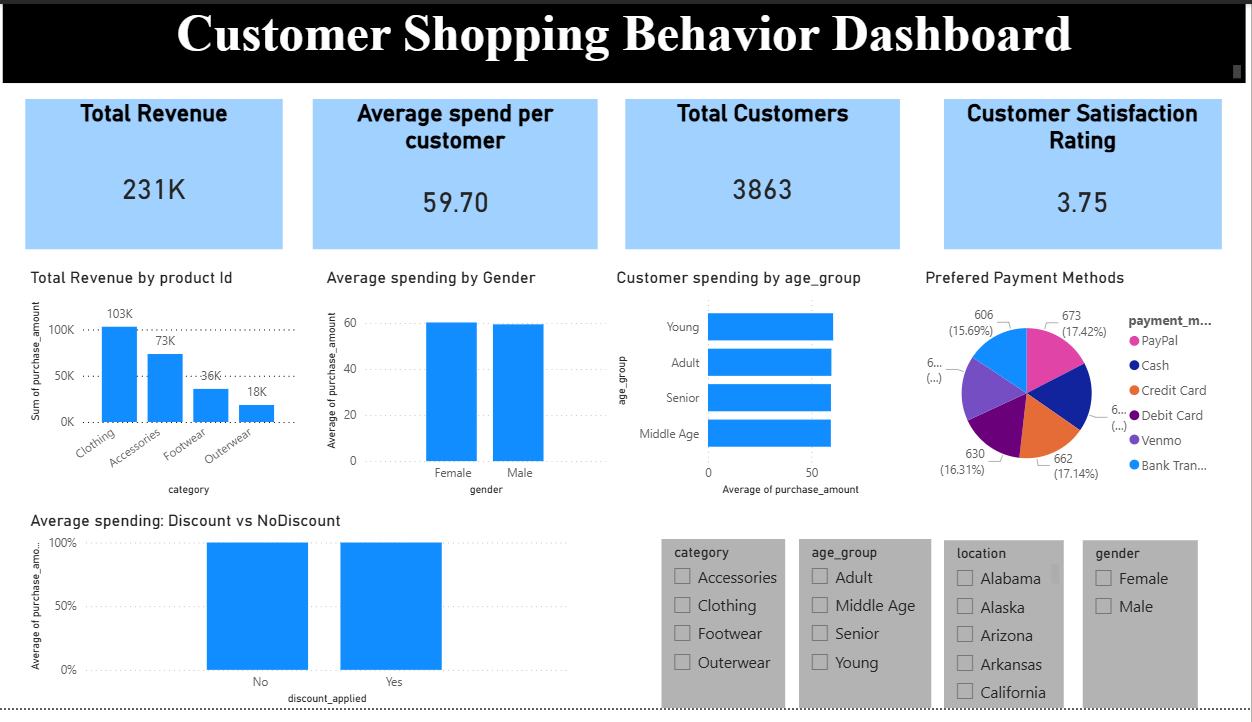

What the dashboard file says about the page in this screenshot:
{"tool":"powerbi","page":{"name":"Project_01","canvas":[1280,720],"ordinal":0},"visuals":[{"type":"textbox","title":"Customer  Shopping Behavior Dashboard","box":[4.1,0,1270.7,81],"z":0},{"type":"card","title":"Total Revenue","fields":{"Values":["Sum(customer_data.purchase_amount)"]},"box":[26.8,97.1,263.2,153.3],"z":1000},{"type":"card","title":"Average spend per customer","fields":{"Values":["Avg(customer_data.purchase_amount)"]},"box":[320.7,97.1,291.3,153.3],"z":2000},{"type":"card","title":"Total Customers","fields":{"Values":["CountNonNull(customer_data.customer_id)"]},"box":[640.1,97.1,281.1,153.3],"z":3000},{"type":"card","title":"Customer Satisfaction Rating","fields":{"Values":["Avg(customer_data.review_rating)"]},"box":[965.9,97.1,283.7,153.3],"z":4000},{"type":"columnChart","title":"Total Revenue by product Id","fields":{"Category":["customer_data.category"],"Y":["Sum(customer_data.purchase_amount)"]},"box":[26.8,269.6,279.8,237.7],"z":5000},{"type":"columnChart","title":"Average spending by Gender","fields":{"Category":["customer_data.gender"],"Y":["Avg(customer_data.purchase_amount)"]},"box":[329.6,269.6,296.4,237.7],"z":6000},{"type":"barChart","title":"Customer spending by age_group","fields":{"Category":["customer_data.age_group"],"Y":["Avg(customer_data.purchase_amount)"]},"box":[626.1,269.6,279.8,237.7],"z":7000},{"type":"pieChart","title":"Prefered Payment Methods","fields":{"Category":["customer_data.payment_method"],"Y":["CountNonNull(customer_data.customer_id)"]},"box":[941.7,269.6,307.9,237.7],"z":8000},{"type":"hundredPercentStackedColumnChart","title":"Average spending: Discount vs NoDiscount","fields":{"Category":["customer_data.discount_applied"],"Y":["Avg(customer_data.purchase_amount)"]},"box":[26.8,517.5,559.6,203.2],"z":9000},{"type":"slicer","fields":{"Values":["customer_data.gender"]},"box":[1107.8,548.1,117.5,172.5],"z":10000},{"type":"slicer","fields":{"Values":["customer_data.category"]},"box":[677.2,546.9,126.5,172.5],"z":11000},{"type":"slicer","fields":{"Values":["customer_data.age_group"]},"box":[817.7,546.9,135.4,172.5],"z":12000},{"type":"slicer","fields":{"Values":["customer_data.location"]},"box":[965.9,548.1,122.7,172.5],"z":13000}]}

Visuals, with their boxes in screenshot pixels (x1, y1, x2, y2), scaled from the page's 1280x720 canvas onto the 1252x722 screenshot:
"Customer  Shopping Behavior Dashboard" textbox: region(4, 0, 1247, 81)
"Total Revenue" card: region(26, 97, 284, 251)
"Average spend per customer" card: region(314, 97, 599, 251)
"Total Customers" card: region(626, 97, 901, 251)
"Customer Satisfaction Rating" card: region(945, 97, 1222, 251)
"Total Revenue by product Id" columnChart: region(26, 270, 300, 509)
"Average spending by Gender" columnChart: region(322, 270, 612, 509)
"Customer spending by age_group" barChart: region(612, 270, 886, 509)
"Prefered Payment Methods" pieChart: region(921, 270, 1222, 509)
"Average spending: Discount vs NoDiscount" hundredPercentStackedColumnChart: region(26, 519, 574, 721)
slicer - customer_data.gender: region(1084, 550, 1198, 721)
slicer - customer_data.category: region(662, 548, 786, 721)
slicer - customer_data.age_group: region(800, 548, 932, 721)
slicer - customer_data.location: region(945, 550, 1065, 721)
